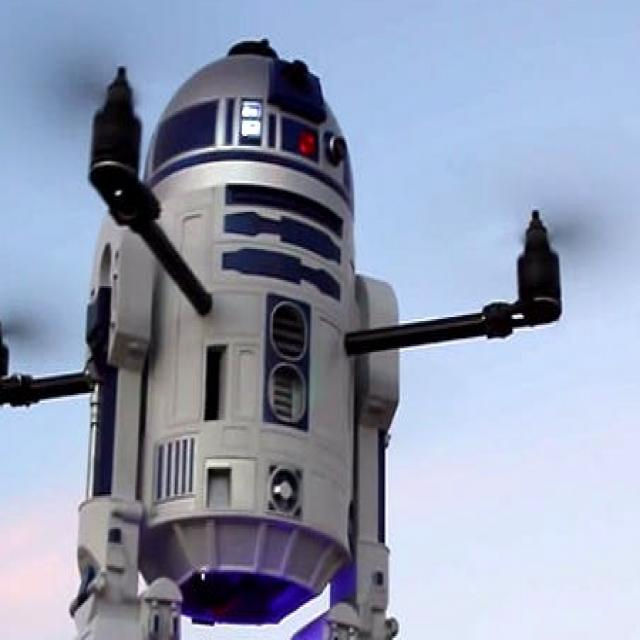drone: (0, 45, 599, 472)
